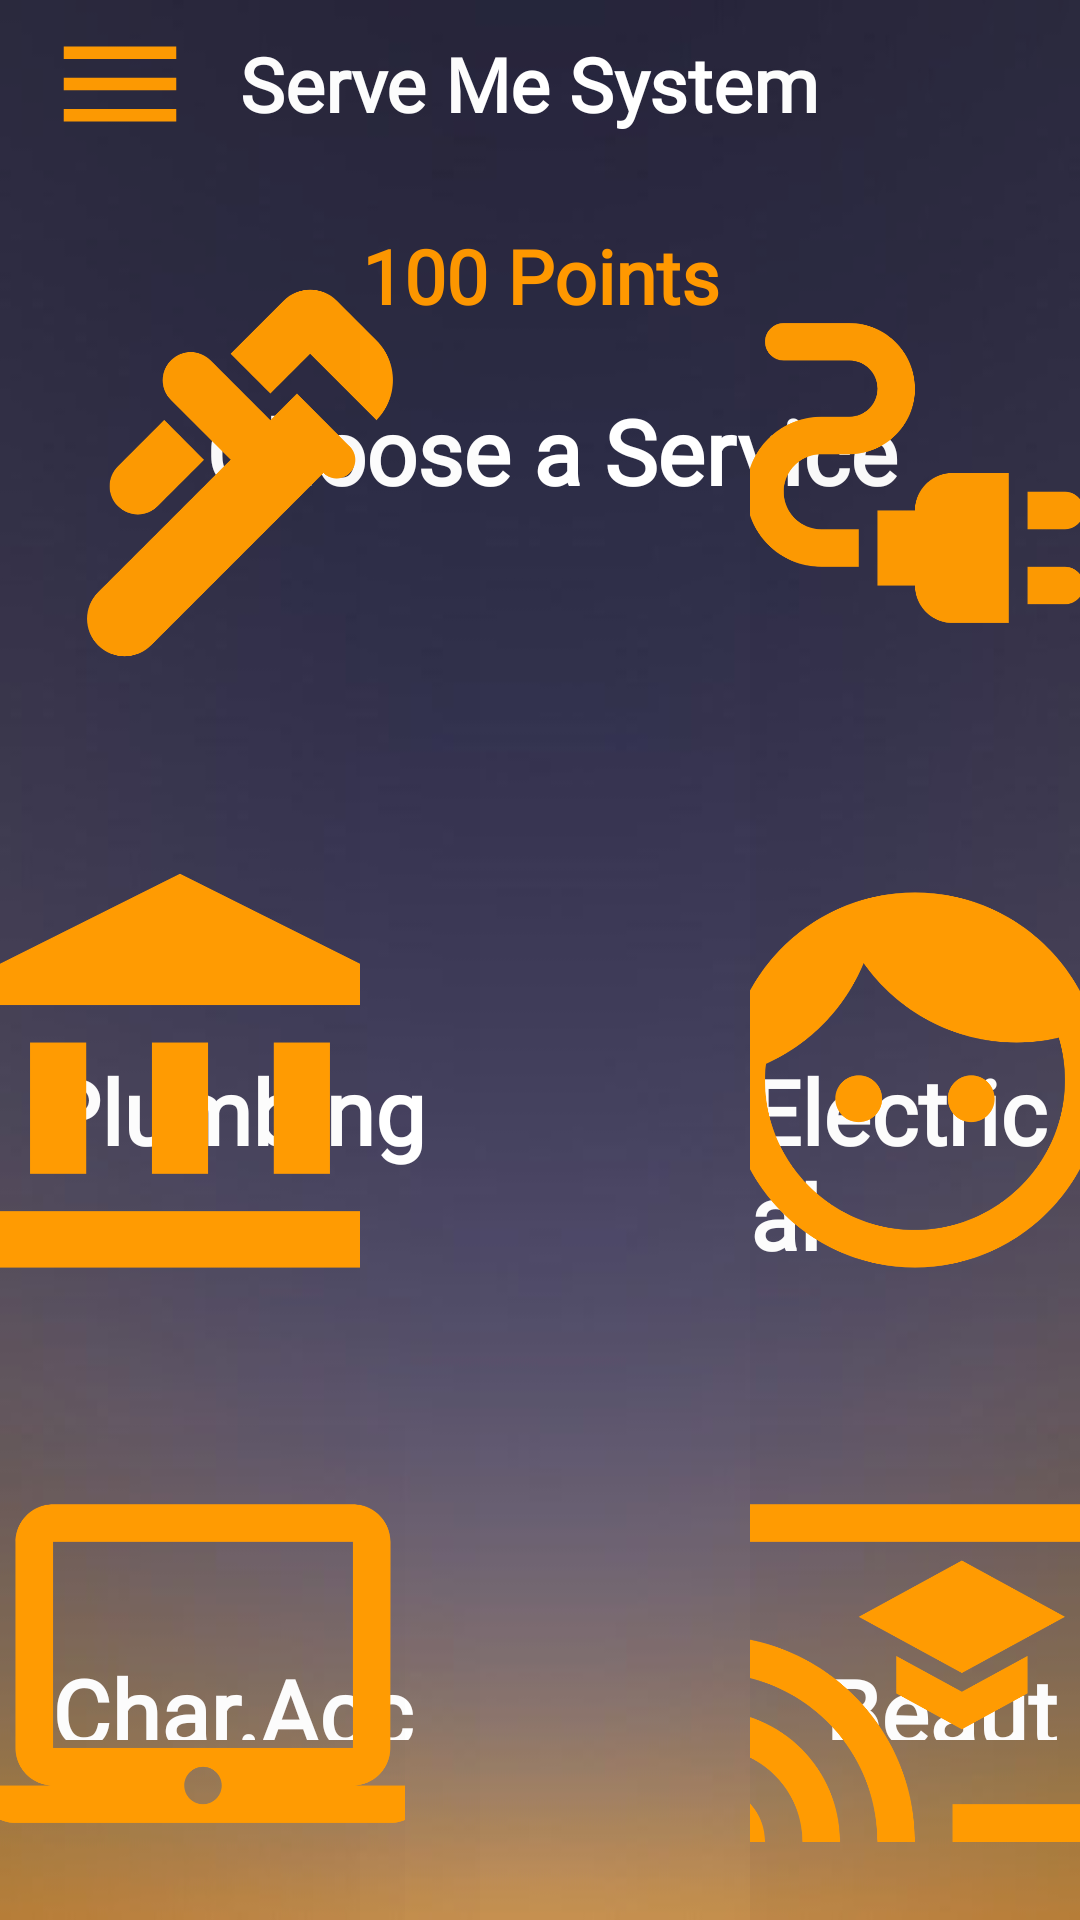

Icon bounding boxes for this 1080*1920 phone screenshot, format box=[x1, y1, x2, y2]:
menu: box=[63, 46, 177, 122]
